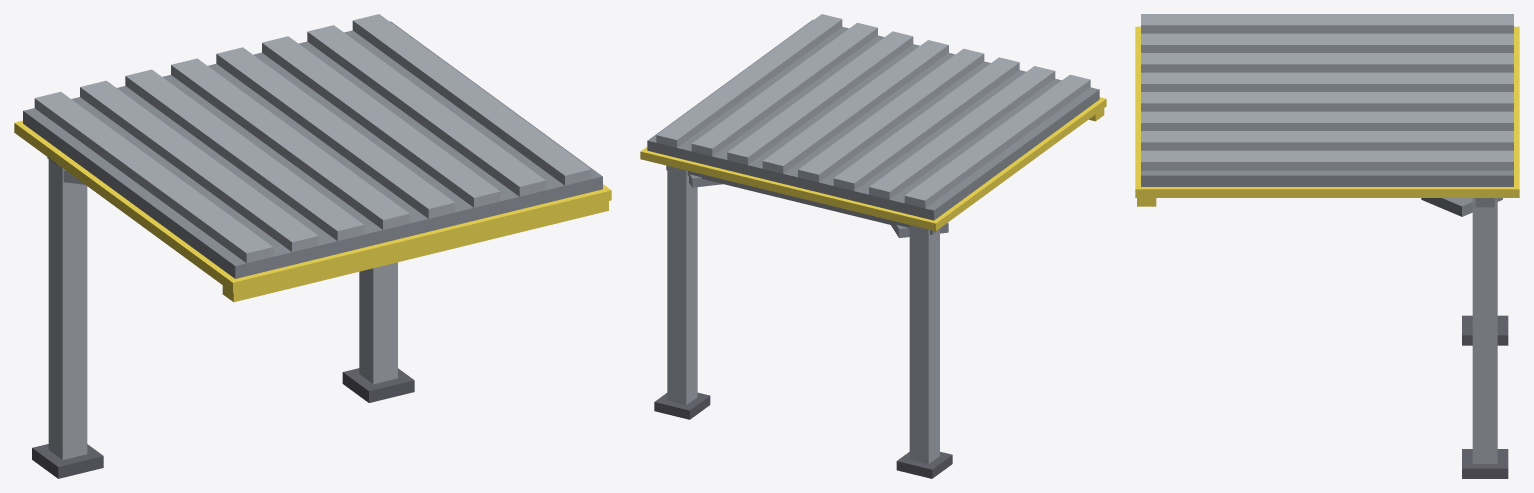
File: roof.glb
3 renders of one model, left to right at view 1: azimuth 30°, elevation 25°; view 2: azimuth 150°, elevation 25°; view 3: azimuth 270°, elevation 25°, orthographic. The views are drawn at different scales.
Visible parts, largest first — view 1: roof; view 2: roof; view 3: roof.
Part boxes in pixels (x1,y1,x2,y2): roof: (14, 14, 611, 478); roof: (640, 14, 1106, 478); roof: (1135, 14, 1519, 478).
Bounding box in the file's own units: 2 × 1.8 × 2.
